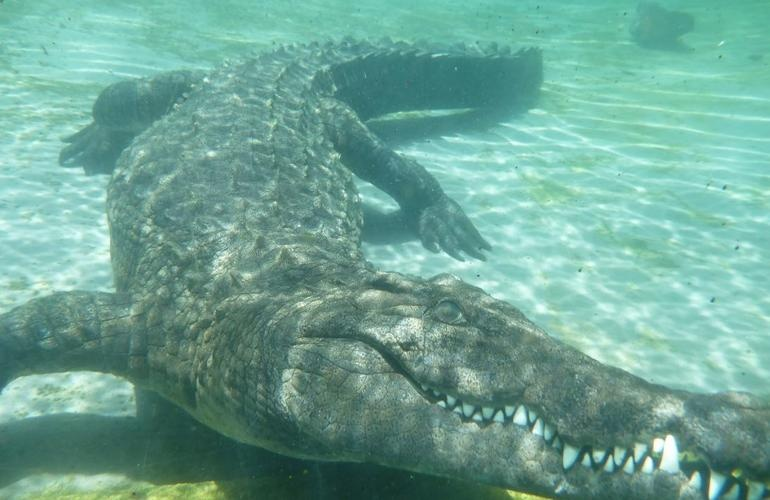crocodile: (1, 27, 768, 500)
